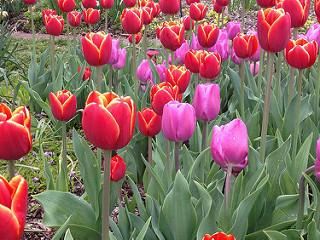tulip: (83, 91, 137, 150), (210, 119, 251, 171), (0, 103, 34, 163), (0, 172, 30, 240), (258, 8, 291, 52), (163, 100, 195, 141), (81, 31, 112, 67), (150, 82, 180, 116), (194, 83, 222, 119), (49, 89, 77, 122), (156, 21, 184, 50), (137, 107, 161, 138), (197, 52, 223, 79), (232, 34, 258, 60), (118, 7, 144, 32), (165, 65, 189, 92), (196, 21, 218, 47)
